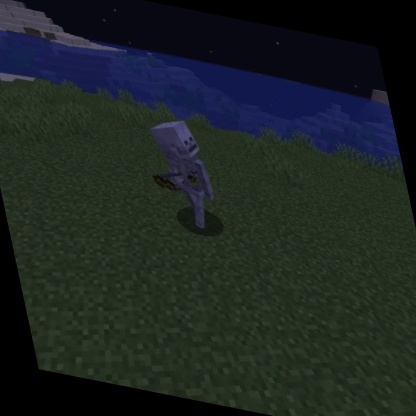skeleton: (133, 108, 228, 237)
